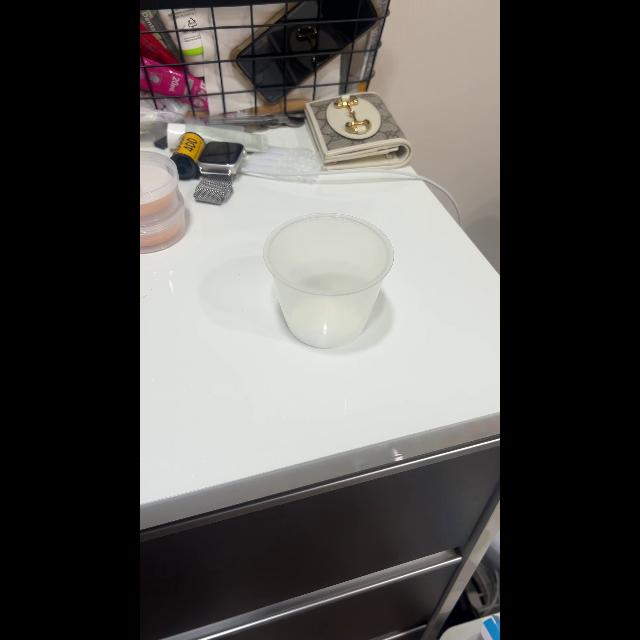clean: (264, 212, 394, 348)
